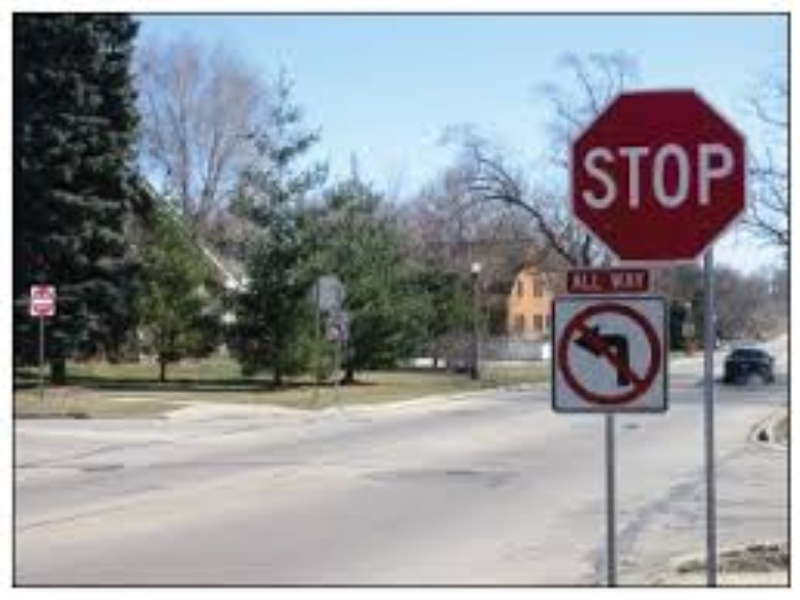Stop_Sign: (568, 90, 749, 265)
